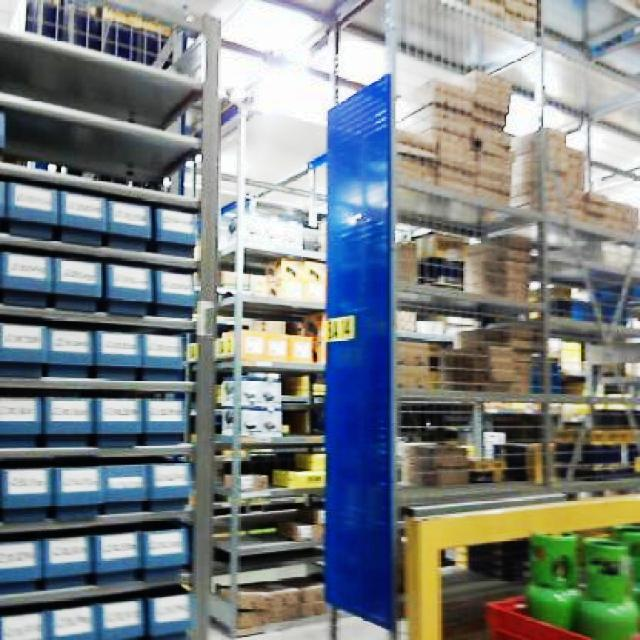ground: (0, 474, 638, 638)
pallet: (391, 66, 638, 638), (206, 160, 331, 638), (398, 485, 638, 638)
